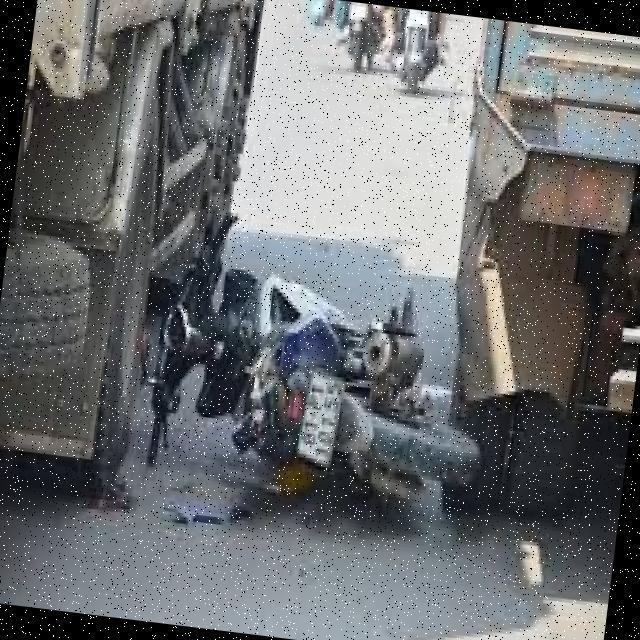accident: (125, 187, 512, 545)
